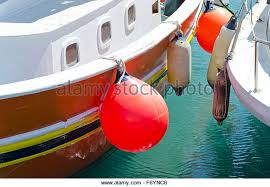buoy: (99, 76, 170, 154), (197, 8, 237, 54)
